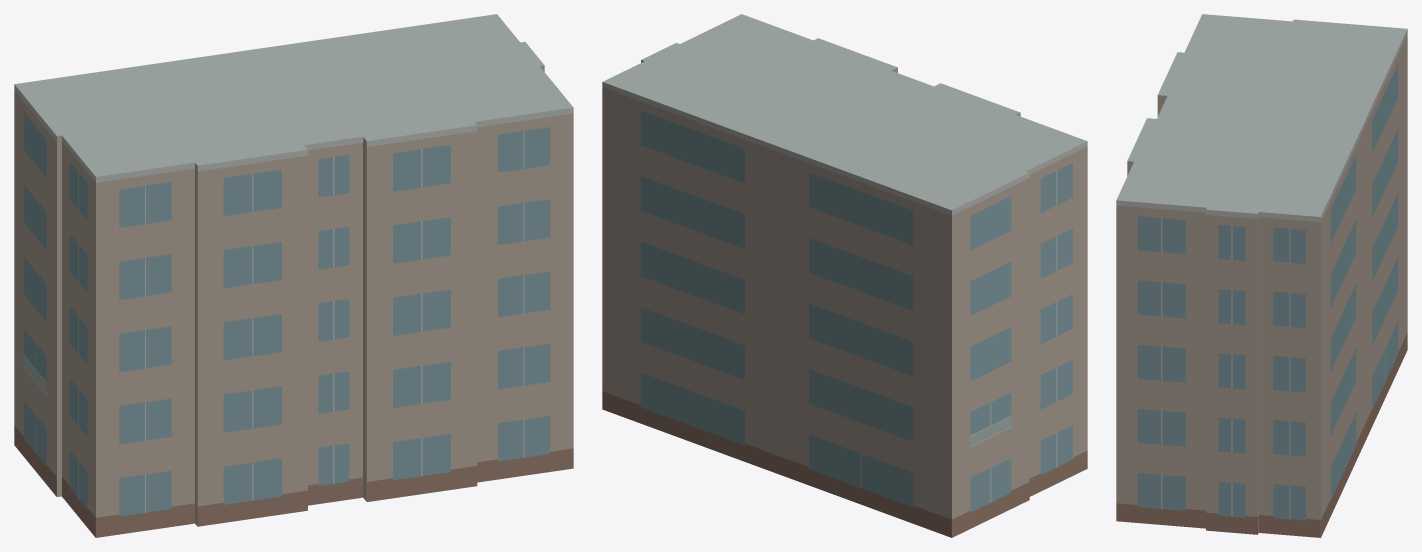
Rendered from survey-upis-32991887.glb.
3 views of the same model, side by side, from view 1: azimuth 30°, elevation 25°; view 2: azimuth 150°, elevation 25°; view 3: azimuth 270°, elevation 25° (orthographic). The views are drawn at different scales.
Visible parts, largest first — view 1: survey-upis-32991887.tmp; view 2: survey-upis-32991887.tmp; view 3: survey-upis-32991887.tmp.
Part boxes in pixels (x1,y1,x2,y2): survey-upis-32991887.tmp: (14,14,573,537); survey-upis-32991887.tmp: (602,14,1087,537); survey-upis-32991887.tmp: (1116,14,1407,537).
Size of the model in its own units: 20.36 by 15 by 12.35.
